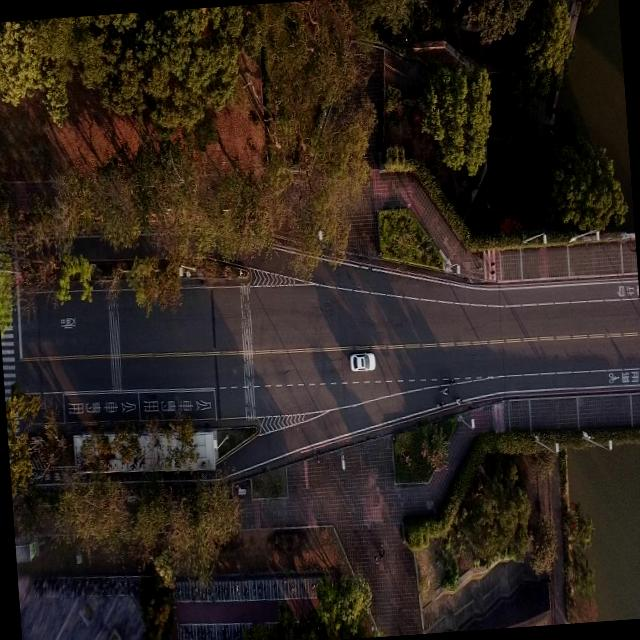car: (348, 349, 376, 372)
